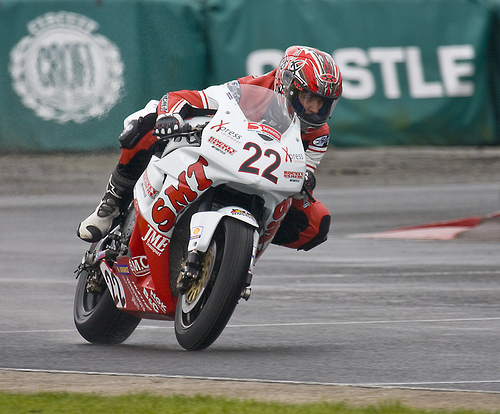helmet: (273, 52, 342, 121)
